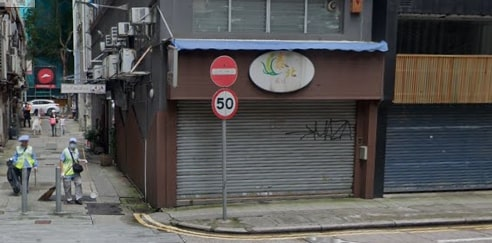No Enter: (208, 54, 238, 88)
Speed Limit: (208, 90, 237, 122)
